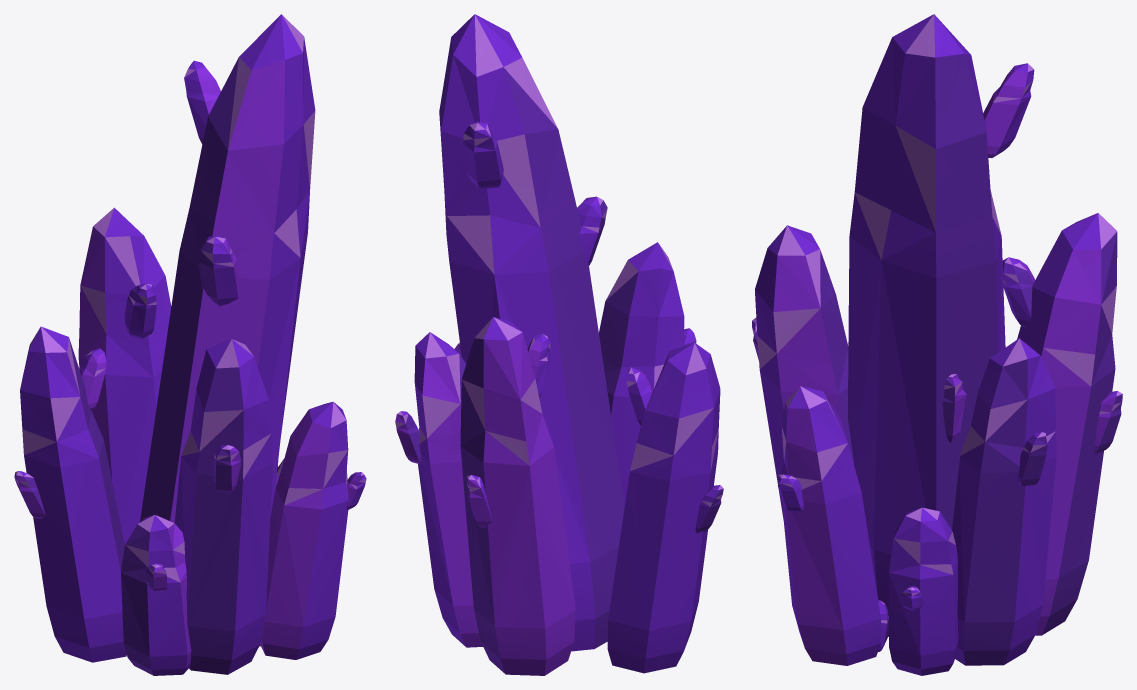
File: amethyst-crown.glb
3 views of the same model, side by side, from view 1: azimuth 30°, elevation 25°; view 2: azimuth 150°, elevation 25°; view 3: azimuth 270°, elevation 25° (orthographic). The views are drawn at different scales.
Visible parts, largest first — view 1: amethyst-crown grown prism 00, amethyst-crown grown prism 07, amethyst-crown grown prism 05, amethyst-crown grown prism 03, amethyst-crown grown prism 04, amethyst-crown grown prism 02, amethyst-crown attached growth 00-01, amethyst-crown attached growth 00-02, amethyst-crown attached growth 03-01, amethyst-crown attached growth 07-00, amethyst-crown attached growth 05-01, amethyst-crown attached growth 05-00 (+1 smaller); view 2: amethyst-crown grown prism 00, amethyst-crown grown prism 03, amethyst-crown grown prism 05, amethyst-crown grown prism 06, amethyst-crown grown prism 07, amethyst-crown attached growth 00-02, amethyst-crown attached growth 00-01, amethyst-crown attached growth 06-00, amethyst-crown attached growth 05-01, amethyst-crown attached growth 03-01, amethyst-crown attached growth 03-00, amethyst-crown attached growth 05-00; view 3: amethyst-crown grown prism 00, amethyst-crown grown prism 06, amethyst-crown grown prism 03, amethyst-crown grown prism 04, amethyst-crown grown prism 07, amethyst-crown grown prism 01, amethyst-crown attached growth 00-02, amethyst-crown attached growth 03-01, amethyst-crown attached growth 00-00, amethyst-crown attached growth 06-00, amethyst-crown attached growth 03-00, amethyst-crown attached growth 04-00.
Boxes of the visible parts, x1,y1,x2,y2 form: amethyst-crown grown prism 00: (140, 14, 315, 522); amethyst-crown grown prism 07: (174, 339, 272, 674); amethyst-crown grown prism 05: (20, 326, 126, 662); amethyst-crown grown prism 03: (78, 207, 171, 544); amethyst-crown grown prism 04: (260, 401, 348, 659); amethyst-crown grown prism 02: (121, 515, 191, 675); amethyst-crown attached growth 00-01: (199, 235, 238, 306); amethyst-crown attached growth 00-02: (184, 60, 220, 143); amethyst-crown attached growth 03-01: (125, 283, 156, 338); amethyst-crown attached growth 07-00: (214, 445, 241, 492); amethyst-crown attached growth 05-01: (79, 348, 106, 410); amethyst-crown attached growth 05-00: (14, 471, 45, 518); amethyst-crown grown prism 00: (439, 14, 624, 651); amethyst-crown grown prism 03: (460, 317, 575, 675); amethyst-crown grown prism 05: (607, 342, 720, 673); amethyst-crown grown prism 06: (414, 332, 482, 647); amethyst-crown grown prism 07: (599, 242, 684, 506); amethyst-crown attached growth 00-02: (463, 121, 503, 188); amethyst-crown attached growth 00-01: (577, 196, 607, 265); amethyst-crown attached growth 06-00: (395, 411, 421, 464); amethyst-crown attached growth 05-01: (626, 367, 652, 425); amethyst-crown attached growth 03-01: (527, 334, 550, 398); amethyst-crown attached growth 03-00: (467, 475, 492, 527); amethyst-crown attached growth 05-00: (695, 485, 723, 533); amethyst-crown grown prism 00: (847, 14, 1005, 636); amethyst-crown grown prism 06: (952, 338, 1056, 665); amethyst-crown grown prism 03: (1017, 213, 1117, 635); amethyst-crown grown prism 04: (781, 386, 880, 665); amethyst-crown grown prism 07: (755, 225, 854, 519); amethyst-crown grown prism 01: (889, 507, 958, 675); amethyst-crown attached growth 00-02: (983, 63, 1034, 157); amethyst-crown attached growth 03-01: (1002, 257, 1034, 326); amethyst-crown attached growth 00-00: (942, 374, 966, 443); amethyst-crown attached growth 06-00: (1018, 431, 1047, 485); amethyst-crown attached growth 03-00: (1094, 391, 1122, 453); amethyst-crown attached growth 04-00: (778, 474, 803, 512).
Bounding box in the file's own units: 3.69 × 7.2 × 3.68.
